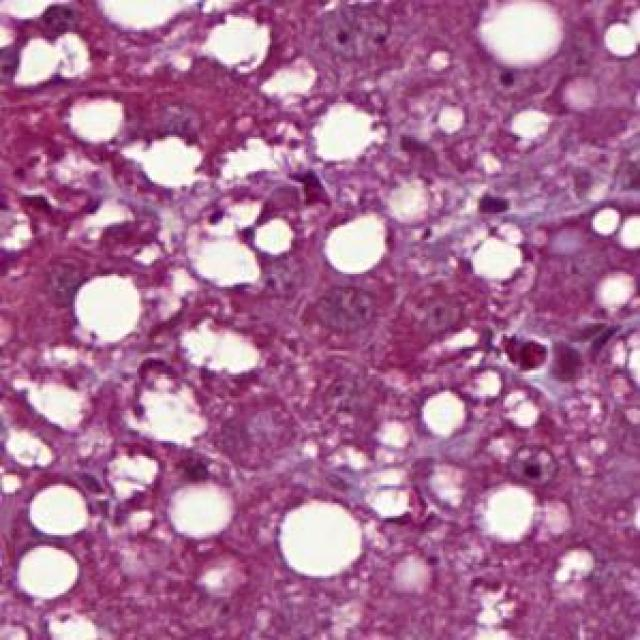ballooning: (180, 184, 304, 293)
